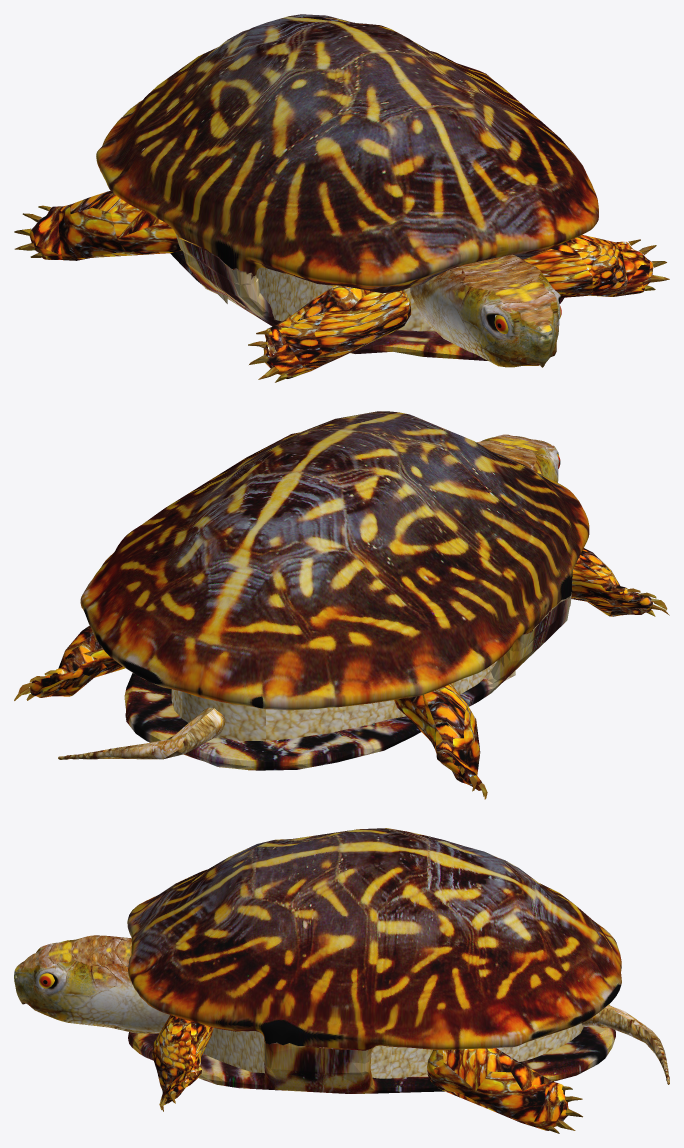
The model's file is TURTLE.obj.
The picture shows the model from 3 angles, top to bottom: view 1: azimuth 30°, elevation 25°; view 2: azimuth 150°, elevation 25°; view 3: azimuth 270°, elevation 25°; orthographic projection. The views are drawn at different scales.
Parts seen in each view (by area): view 1: turtshe1, turthea1, turtleg3, turtleg2, turtleg4, turtshe2, turthea2, turtfrnt; view 2: turtshe1, turtshe2, turtback, turtleg2, turtleg1, turtleg3, turttail, turthea2, turthea1; view 3: turtshe1, turtshe2, turthea1, turtleg1, turtleg4, turtback, turthea2, turtfrnt, turttail.
Part boxes in pixels (box(x1,y1,x2,y2)): turtshe1: box(96, 14, 598, 293); turthea1: box(410, 254, 560, 367); turtleg3: box(263, 285, 410, 378); turtleg2: box(29, 190, 181, 260); turtleg4: box(523, 234, 653, 297); turtshe2: box(170, 234, 564, 360); turthea2: box(449, 255, 556, 332); turtfrnt: box(245, 267, 433, 331); turtshe1: box(80, 411, 589, 710); turtshe2: box(124, 592, 571, 770); turtback: box(171, 661, 515, 741); turtleg2: box(394, 683, 481, 790); turtleg1: box(30, 625, 124, 697); turtleg3: box(571, 548, 652, 616); turttail: box(58, 707, 225, 759); turthea2: box(477, 434, 554, 467); turthea1: box(481, 435, 559, 482); turtshe1: box(127, 828, 621, 1049); turtshe2: box(128, 1004, 615, 1093); turthea1: box(14, 935, 169, 1033); turtleg1: box(427, 1048, 568, 1130); turtleg4: box(152, 1015, 213, 1104); turtback: box(370, 1023, 583, 1078); turthea2: box(15, 935, 131, 972); turtfrnt: box(203, 1027, 289, 1073); turttail: box(581, 1005, 669, 1084).
Size of the model in its own units: 2952 by 1455 by 4171.
